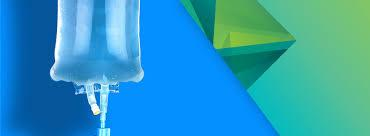Iv_Bottle: (50, 0, 143, 113)
